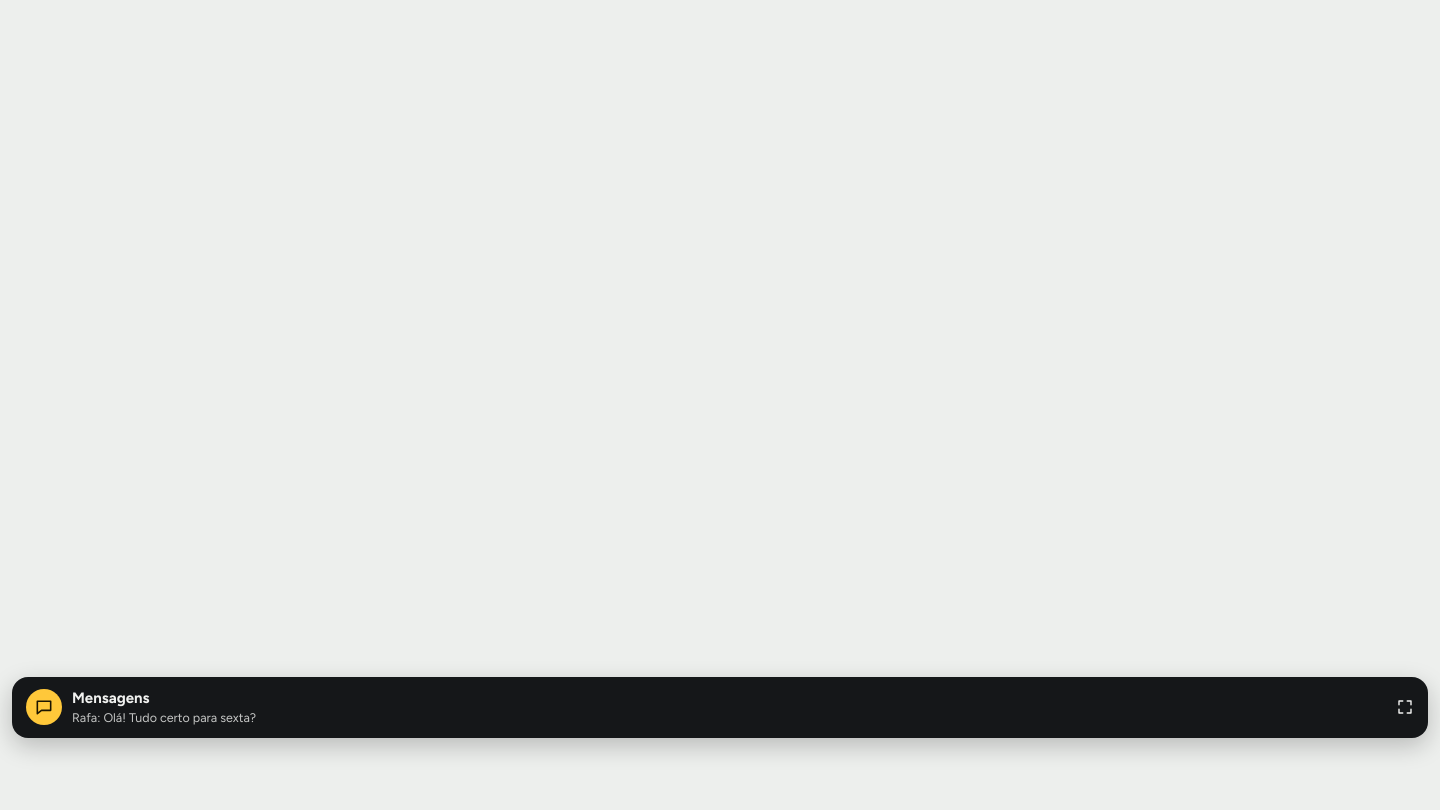
conversa da negociação › celular: barra fixa abre a conversa em pop-up, que fecha com Esc; sem não lidas não há contador
This screenshot has width=1440, height=810.
Click the button "Mensagens Rafa: Olá! Tudo certo para sexta?": [44, 707] box [12,677,1428,738]
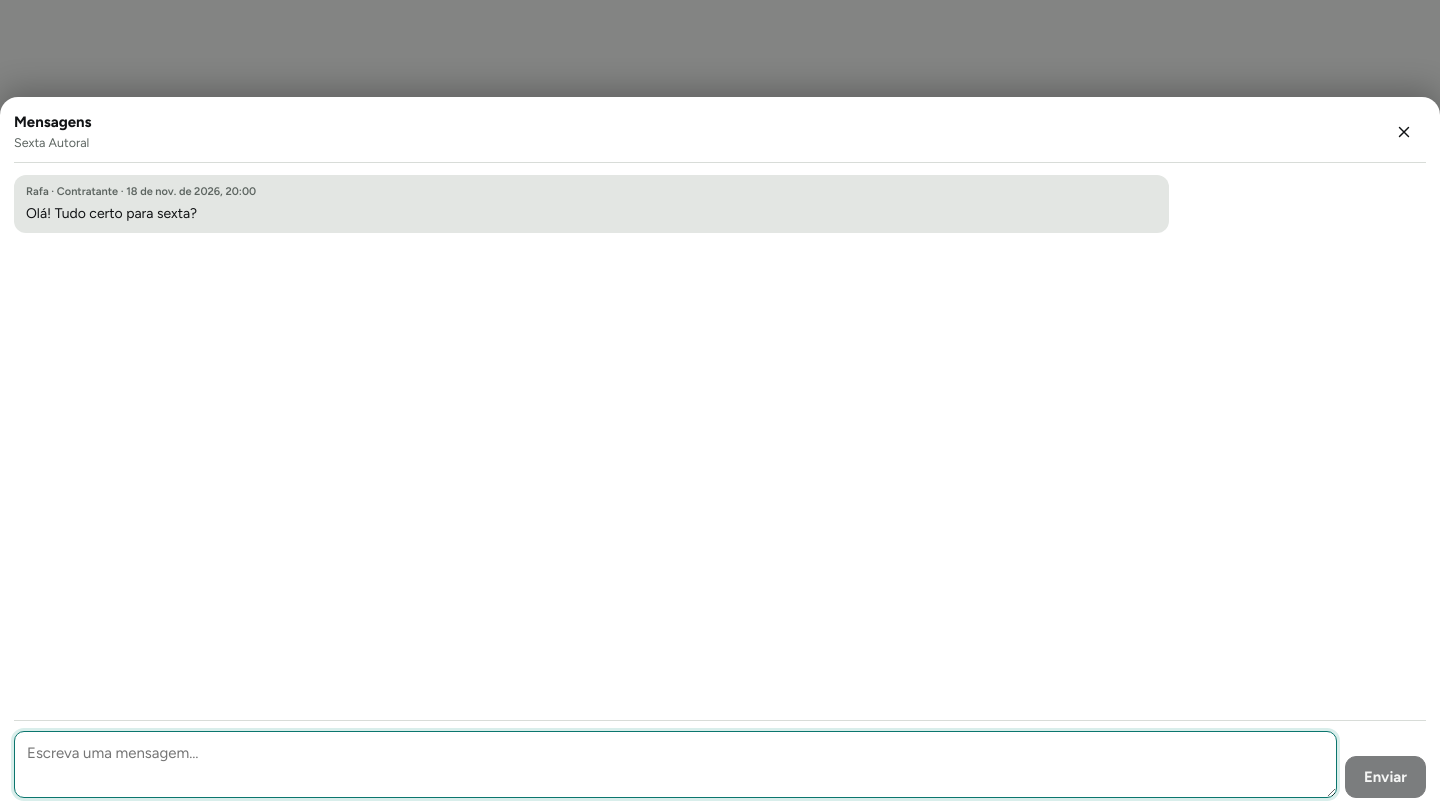
Result: the dialog "Mensagens" shows "Olá! Tudo certo para sexta?" at [26,205,197,222]
Press Escape
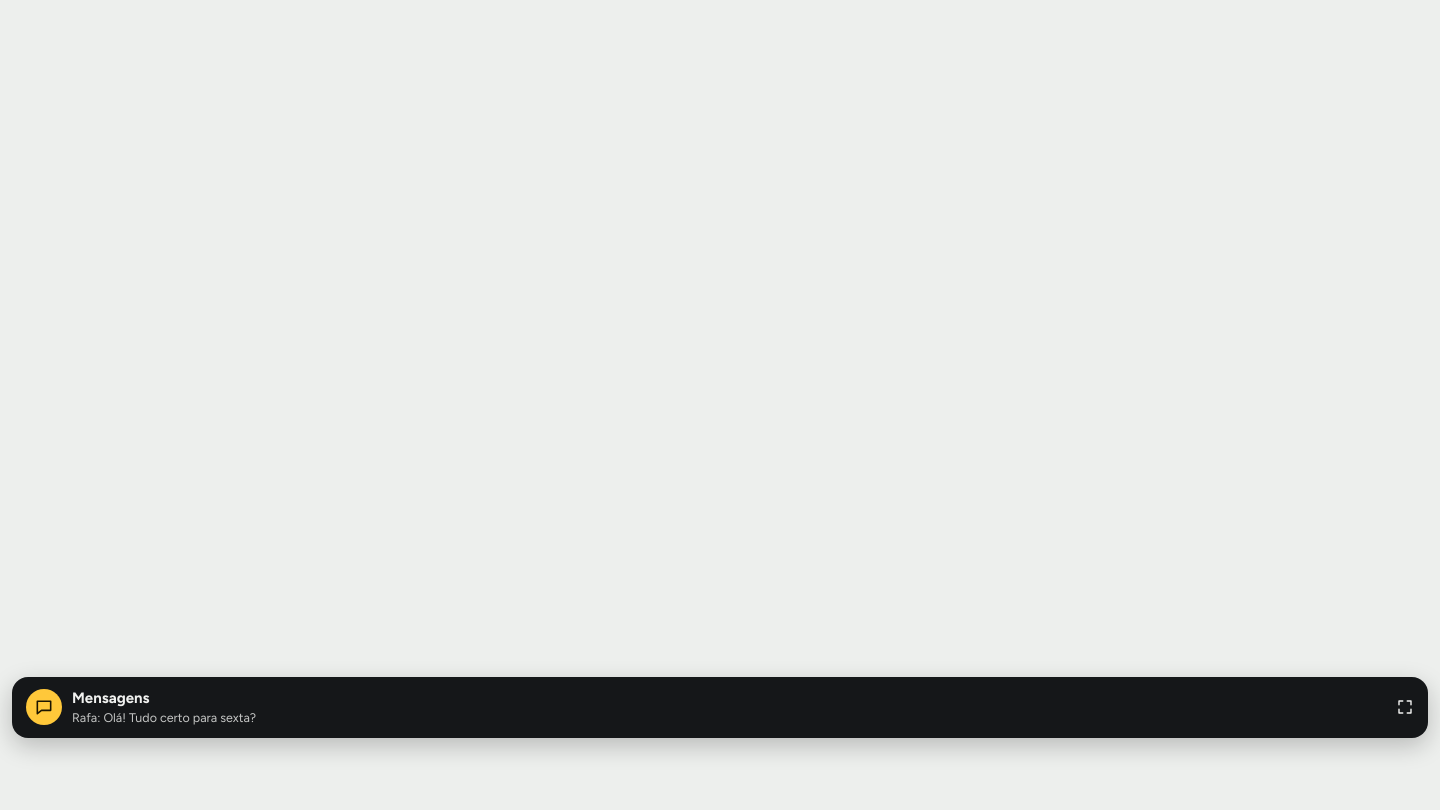
Result: the dialog is gone
